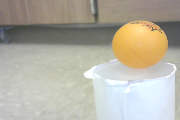PingPongBall: (113, 21, 168, 69)
